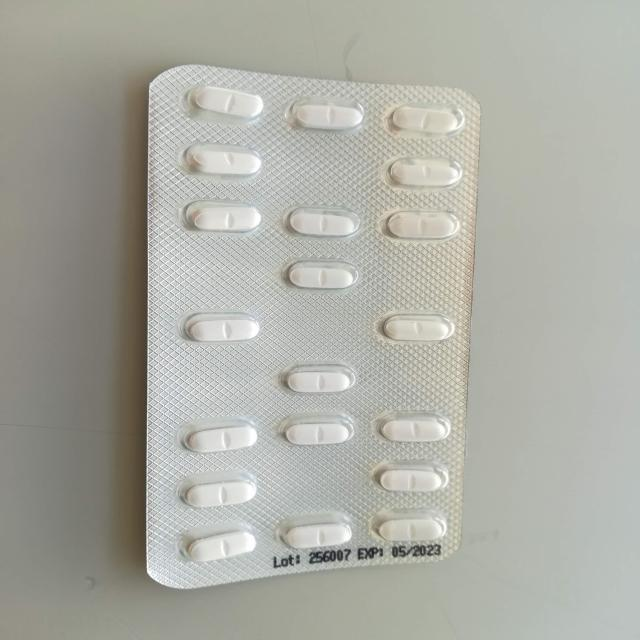Pill: (181, 76, 271, 127), (378, 98, 478, 142), (179, 139, 273, 184), (179, 198, 273, 242), (174, 306, 271, 348), (374, 155, 475, 195), (174, 476, 273, 516), (178, 419, 266, 463), (271, 363, 366, 403), (374, 207, 473, 245), (172, 526, 265, 566), (282, 98, 372, 139), (269, 256, 359, 297), (366, 312, 468, 348), (280, 203, 366, 244), (366, 461, 450, 500), (370, 510, 452, 548), (278, 516, 362, 553), (370, 415, 458, 450), (284, 414, 357, 455)
